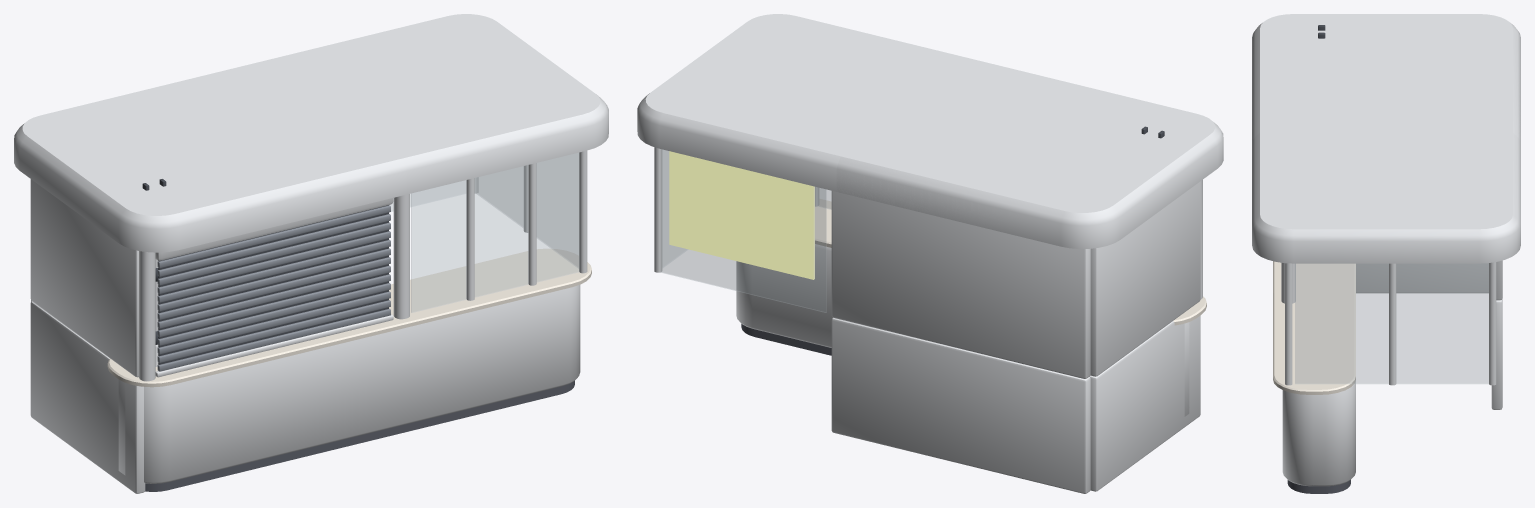
File: kiosk.glb
The picture shows the model from 3 angles, left to right: view 1: azimuth 30°, elevation 25°; view 2: azimuth 150°, elevation 25°; view 3: azimuth 270°, elevation 25°; orthographic projection. The views are drawn at different scales.
Parts seen in each view (by area): view 1: glass_room, canopy, canopy_wide, kiosk, shutter, counter_base, counter_top; view 2: kiosk, canopy_wide, canopy, glass_room; view 3: canopy_wide, glass_room, canopy, kiosk, counter_top.
Part boxes in pixels (x1,y1,x2,y2): glass_room: (126,150,591,489); canopy: (14,58,419,252); canopy_wide: (26,14,608,249); kiosk: (30,179,409,493); shutter: (155,205,393,377); counter_base: (118,334,383,491); counter_top: (107,296,405,387); kiosk: (831,180,1202,493); canopy_wide: (637,14,1196,245); canopy: (824,57,1223,248); glass_room: (654,147,1202,355); canopy_wide: (1252,14,1520,263); glass_room: (1273,262,1496,493); canopy: (1252,14,1520,146); kiosk: (1281,260,1502,409); counter_top: (1273,261,1355,307).
Bounding box in the file's own units: 4.3 × 2.49 × 2.2.
